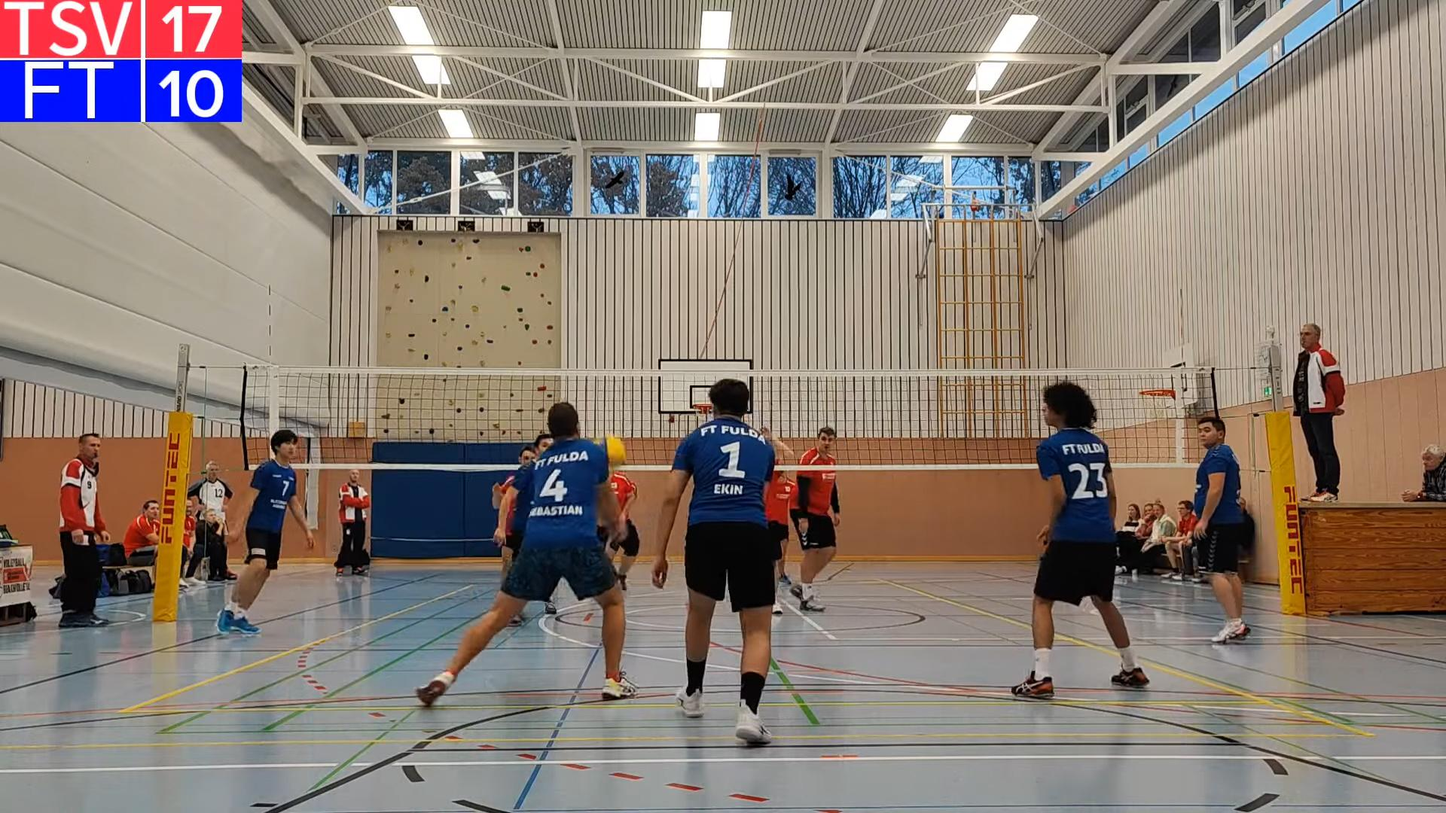ricezione: (412, 396, 640, 709)
